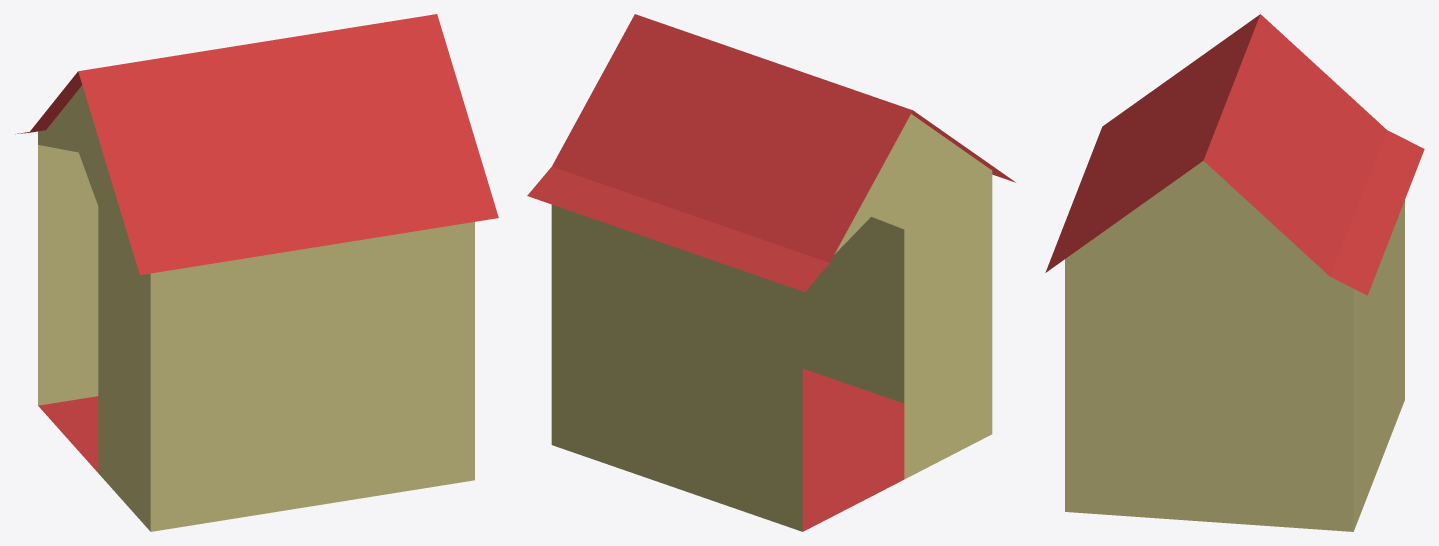
The picture shows the model from 3 angles, left to right: view 1: azimuth 30°, elevation 25°; view 2: azimuth 150°, elevation 25°; view 3: azimuth 270°, elevation 25°; orthographic projection. The views are drawn at different scales.
Bounding box in the file's own units: 11.74 × 11.14 × 11.92.
